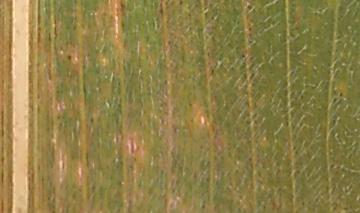tarspot: (157, 1, 164, 18), (244, 3, 253, 12), (65, 54, 73, 62), (300, 199, 306, 209), (209, 67, 215, 76), (186, 101, 193, 108), (200, 203, 207, 210), (240, 52, 246, 60), (209, 14, 215, 22), (166, 38, 171, 47), (88, 117, 95, 123), (246, 32, 253, 38), (246, 26, 253, 32), (55, 114, 61, 121), (338, 91, 343, 98), (178, 1, 184, 6)
